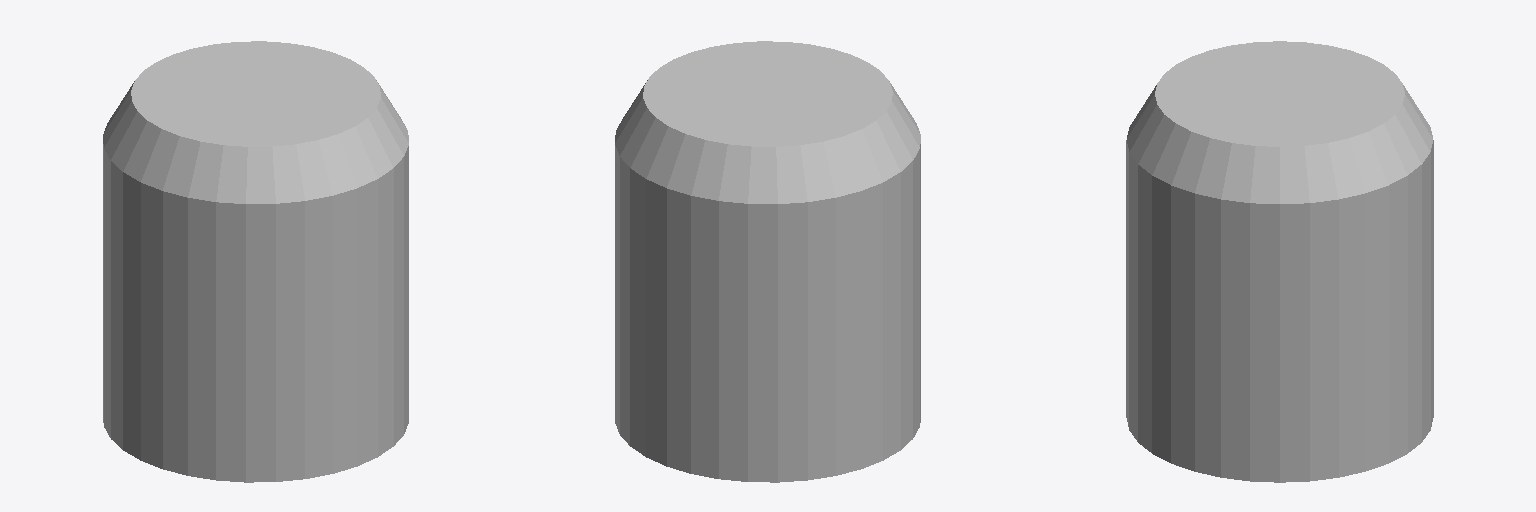
The model's file is can.obj.
3 renders of one model, left to right at view 1: azimuth 30°, elevation 25°; view 2: azimuth 150°, elevation 25°; view 3: azimuth 270°, elevation 25°, orthographic.
Parts seen in each view (by area): view 1: Cylinder; view 2: Cylinder; view 3: Cylinder.
Part boxes in pixels (x1,y1,x2,y2): Cylinder: (103,41,408,482); Cylinder: (615,41,920,482); Cylinder: (1126,41,1433,482).
Size of the model in its own units: 2 by 2.33 by 2.